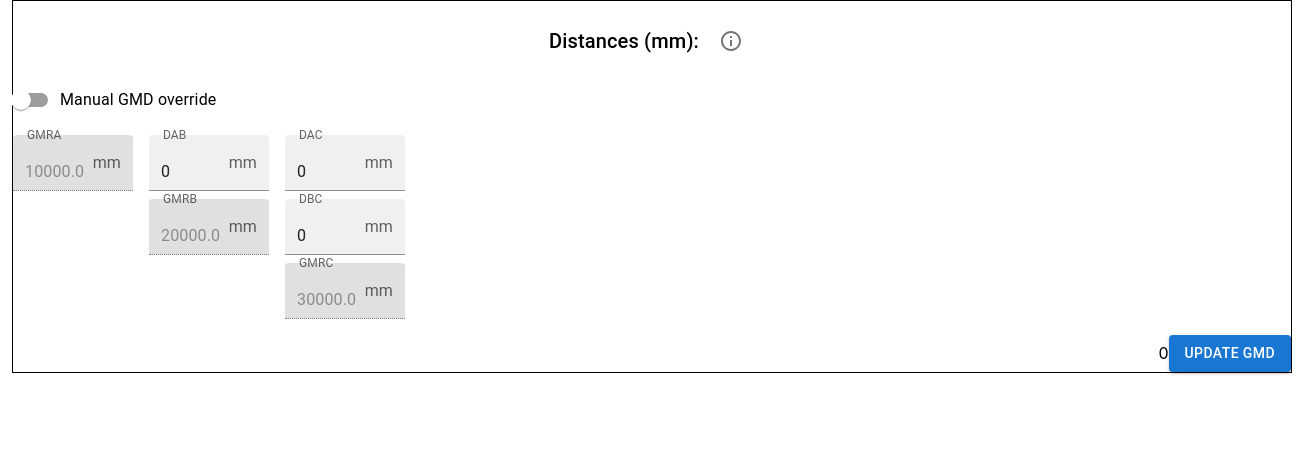
Test: Manual GMD override and handleManualGmdChange › shows manual GMD input when override is enabled and hides when disabled
The image size is (1304, 468).
Click the switch labelled "Manual GMD override": [114, 100] box 11,90 -> 216,110
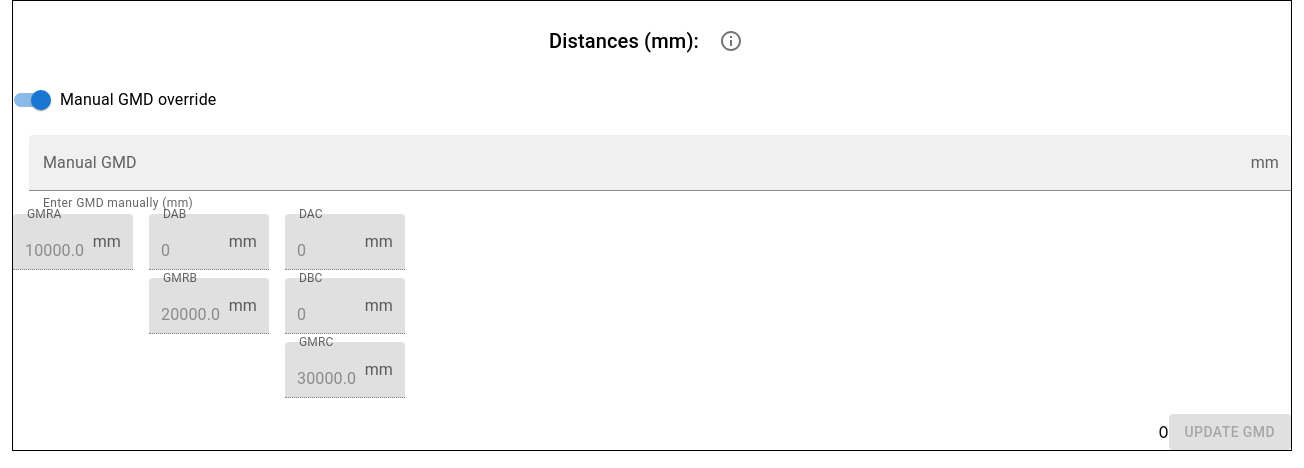
expect the field named "manual-gmd" is shown: met, box 29,135 -> 1243,191
Click the switch labelled "Manual GMD override": [115, 100] box 14,90 -> 216,110
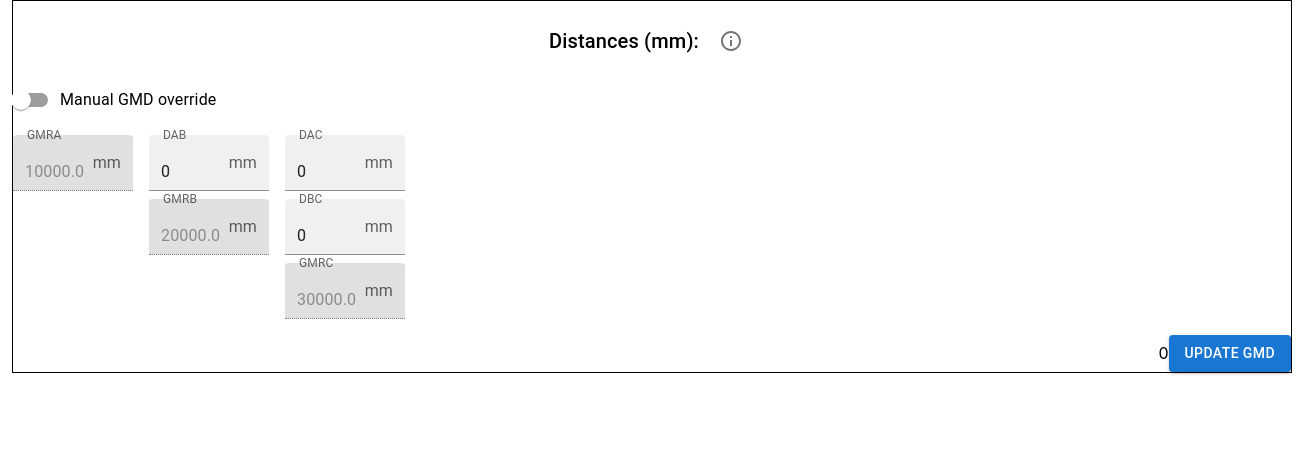
expect the label labelled "manual-gmd" is gone: met
